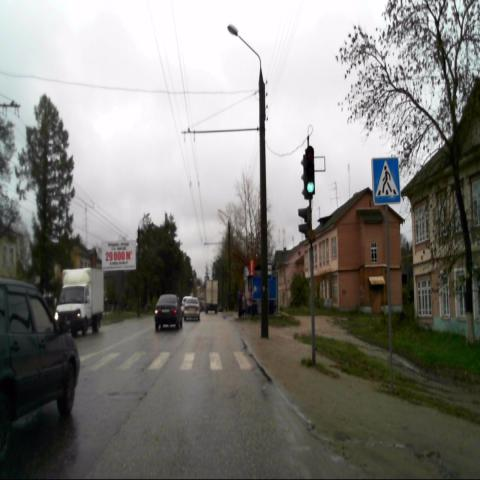5_19_1: (372, 156, 400, 206)
